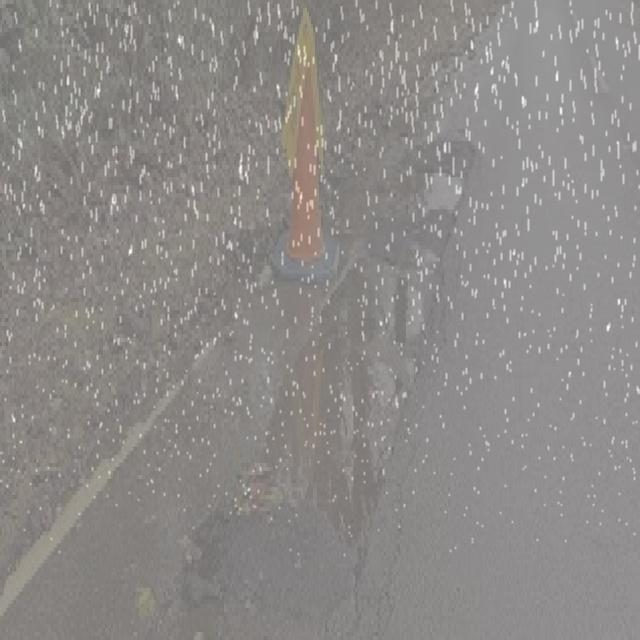Pothole: (174, 244, 454, 578), (382, 138, 486, 219)
